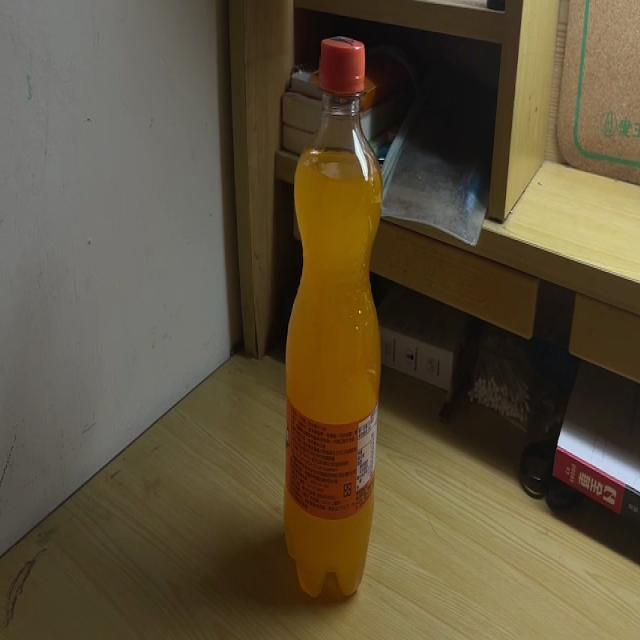Fanta: (282, 36, 380, 601)
